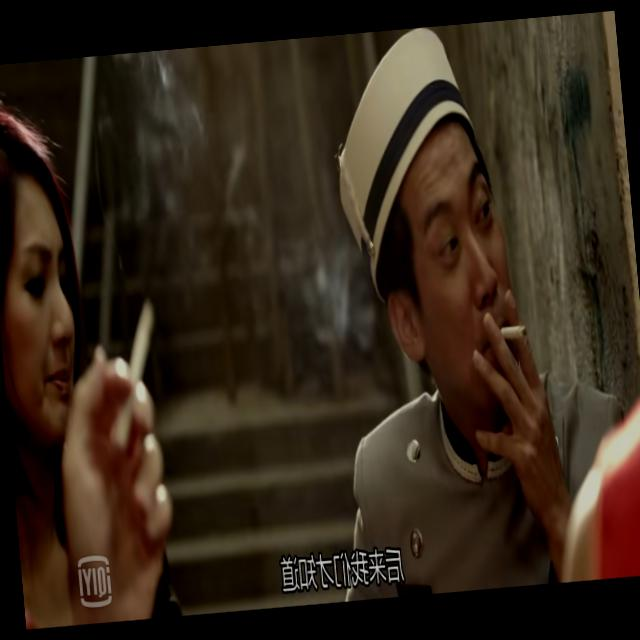smoke: (117, 292, 167, 390), (498, 312, 535, 354)
